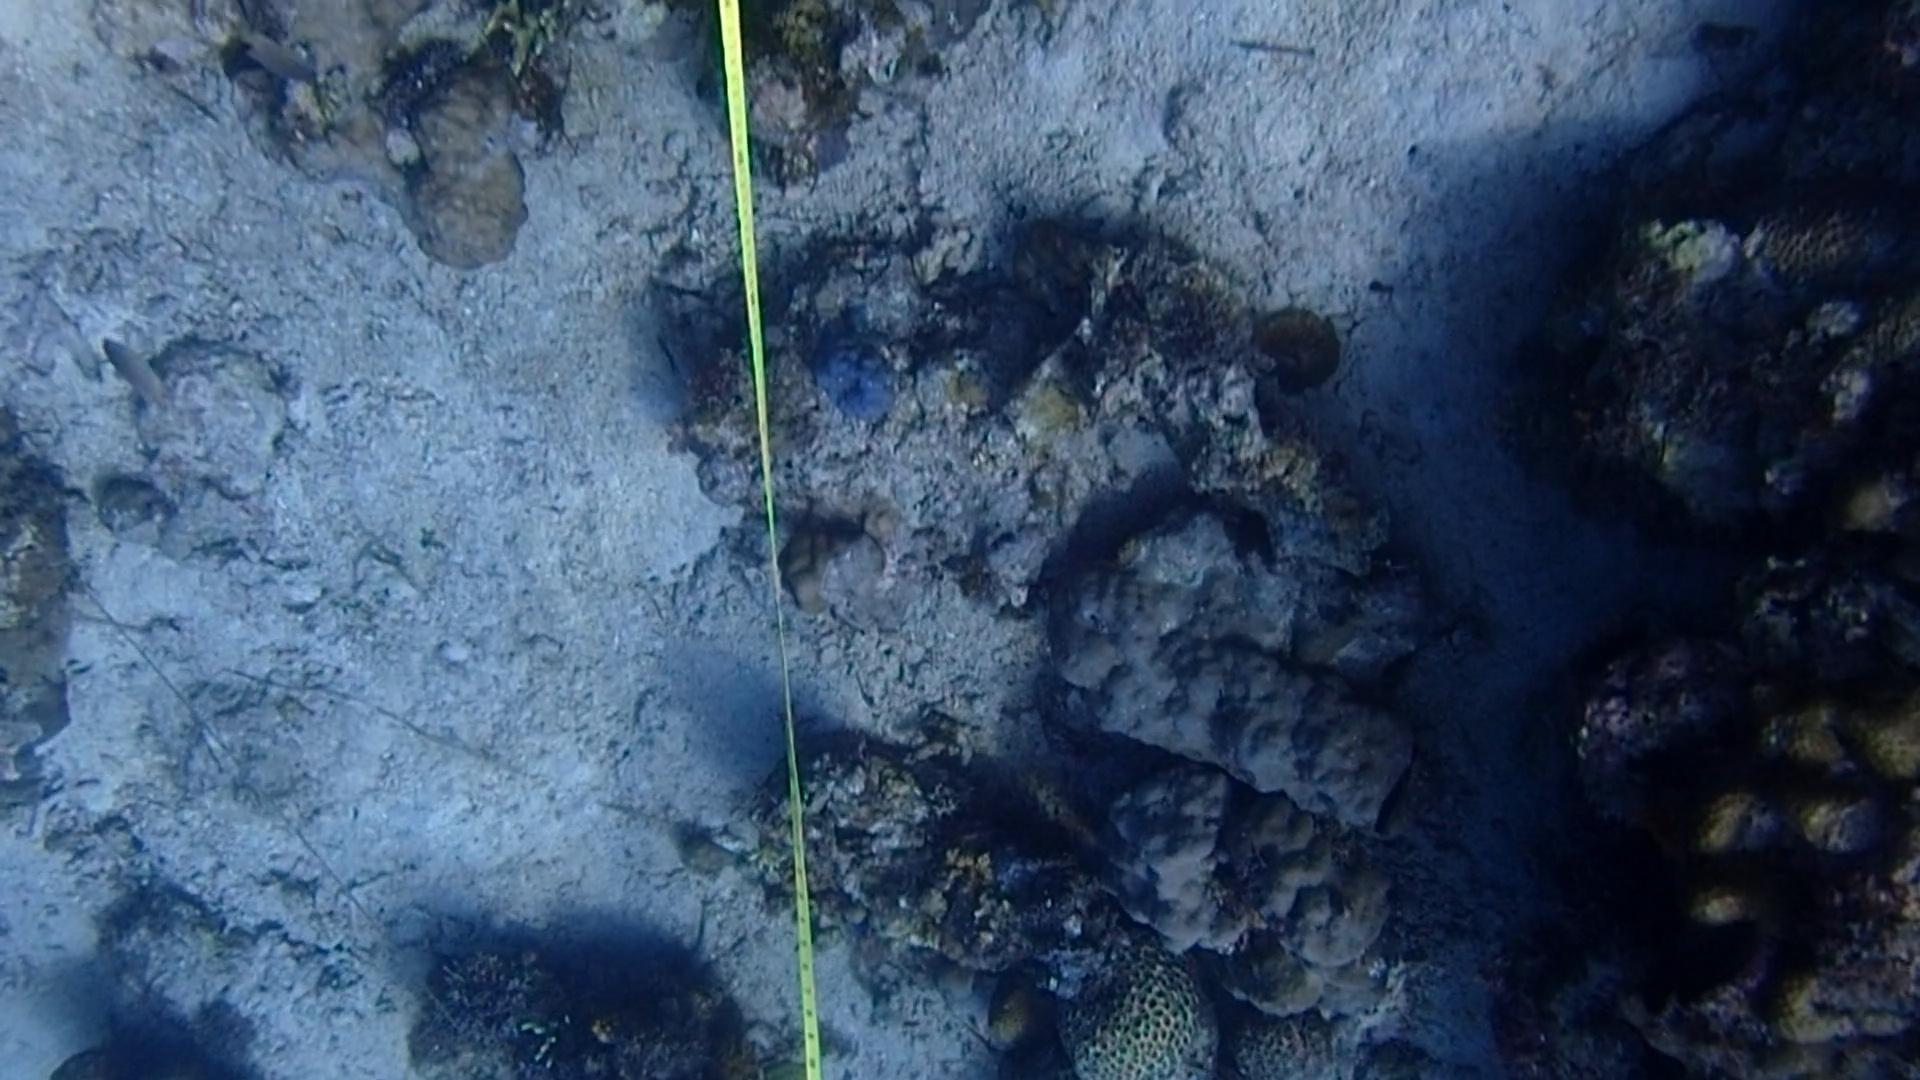Dark Fish: (1618, 719, 1756, 819), (1617, 935, 1767, 1017), (1354, 741, 1444, 837), (1651, 161, 1753, 240)
Light Fish: (105, 331, 177, 427)
